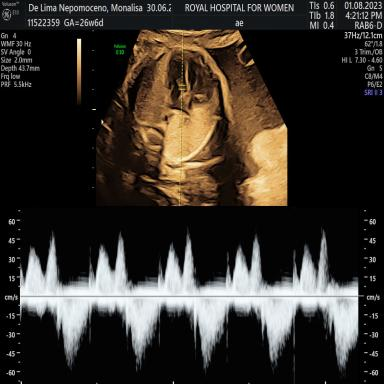Ultrasound-Waves: (25, 213, 356, 384)
